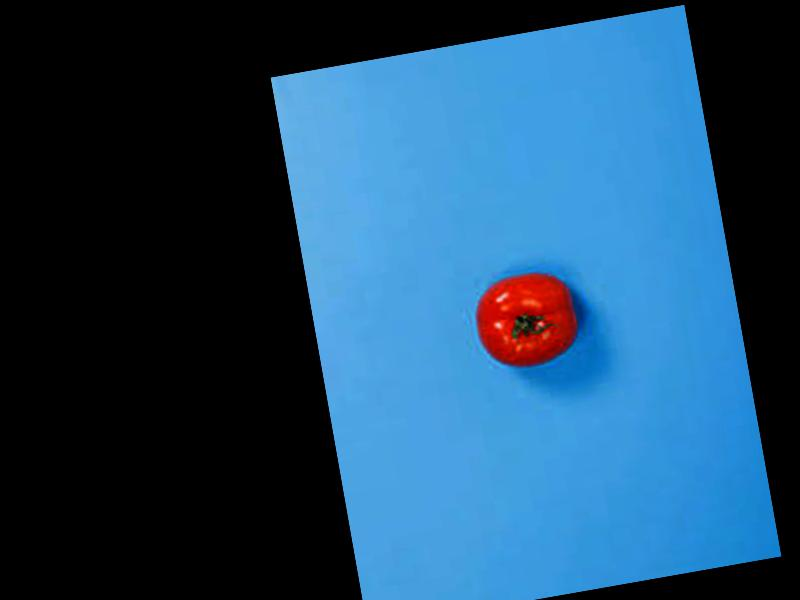Tomato: (468, 267, 584, 377)
